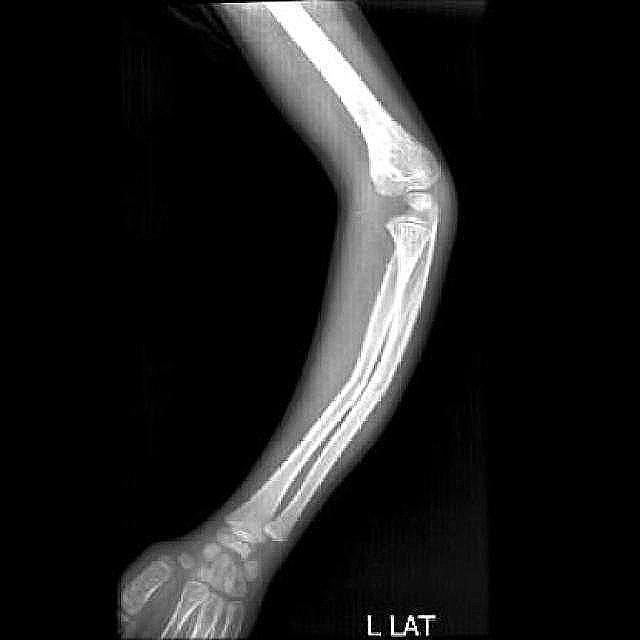bone: (362, 371, 389, 404), (342, 370, 362, 408)
